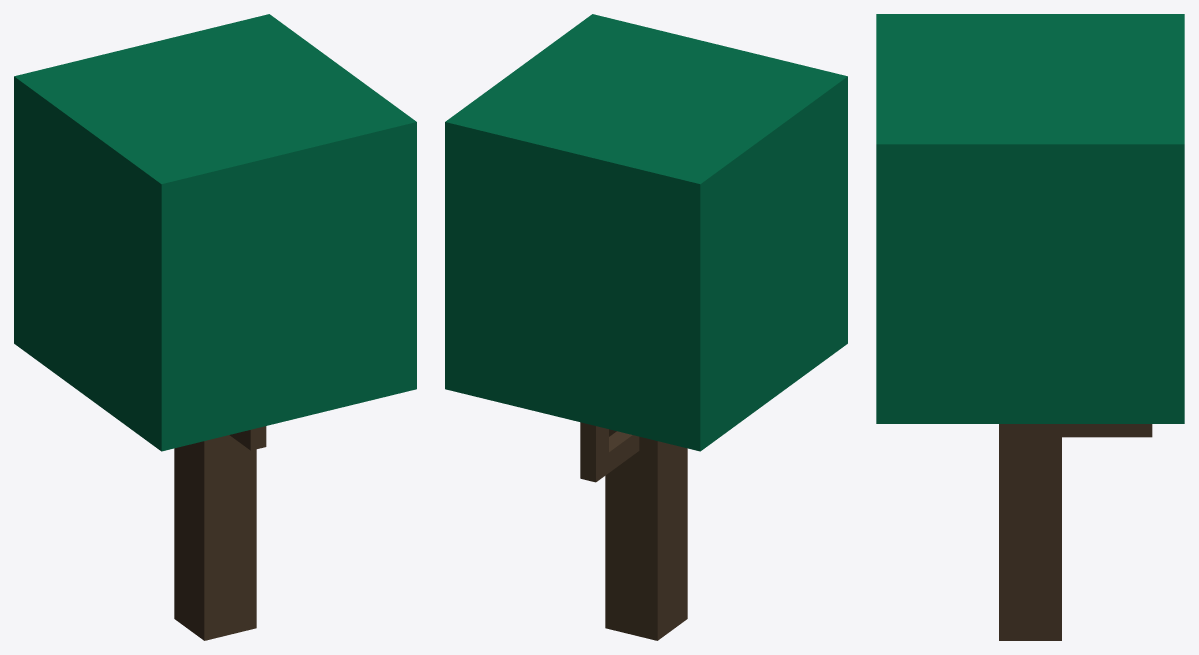
The model's file is Tree1.fbx.
3 renders of one model, left to right at view 1: azimuth 30°, elevation 25°; view 2: azimuth 150°, elevation 25°; view 3: azimuth 270°, elevation 25°, orthographic. The views are drawn at different scales.
Parts seen in each view (by area): view 1: Tree1; view 2: Tree1; view 3: Tree1.
Boxes of the visible parts, x1,y1,x2,y2 form: Tree1: [14, 14, 416, 640]; Tree1: [445, 14, 847, 640]; Tree1: [876, 14, 1184, 640].
Size of the model in its own units: 24.49 by 48.04 by 24.49.
